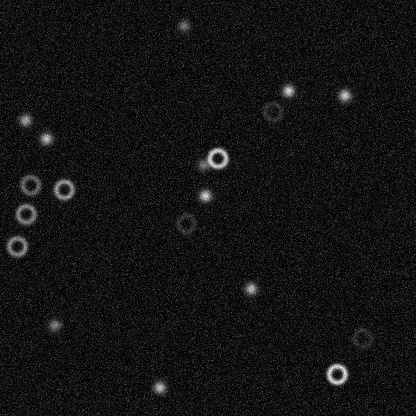Ring: (13, 201, 37, 225), (324, 362, 348, 386), (260, 99, 284, 123), (51, 177, 75, 201), (350, 326, 374, 350), (205, 146, 229, 170), (4, 234, 28, 258), (173, 211, 197, 235), (18, 172, 42, 196)
Spot: (17, 111, 33, 127), (151, 379, 167, 395), (175, 17, 191, 33), (38, 130, 54, 146), (197, 187, 213, 203), (280, 82, 296, 98), (242, 280, 258, 296), (195, 156, 211, 172), (336, 87, 352, 103), (46, 317, 62, 333)
